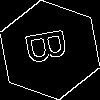B: (25, 25, 78, 66)
